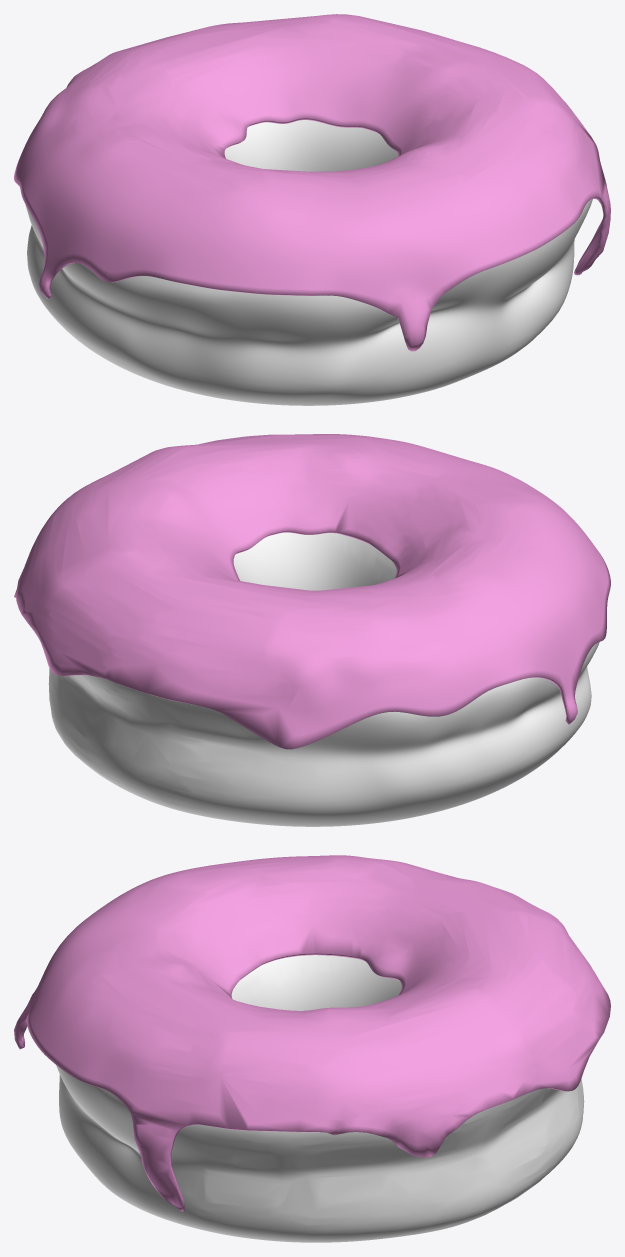
Rendered from dougnut2_limitedDisolve.gltf.
The picture shows the model from 3 angles, top to bottom: view 1: azimuth 30°, elevation 25°; view 2: azimuth 150°, elevation 25°; view 3: azimuth 270°, elevation 25°; orthographic projection.
Visible parts, largest first — view 1: icing, dougnut; view 2: icing, dougnut; view 3: icing, dougnut.
Boxes of the visible parts, x1,y1,x2,y2 form: icing: [14, 14, 610, 351]; dougnut: [25, 120, 592, 405]; icing: [14, 434, 610, 749]; dougnut: [48, 532, 599, 826]; icing: [14, 855, 610, 1211]; dougnut: [56, 955, 584, 1242].
Bounding box in the file's own units: 0.1249 × 0.0504 × 0.1245.
